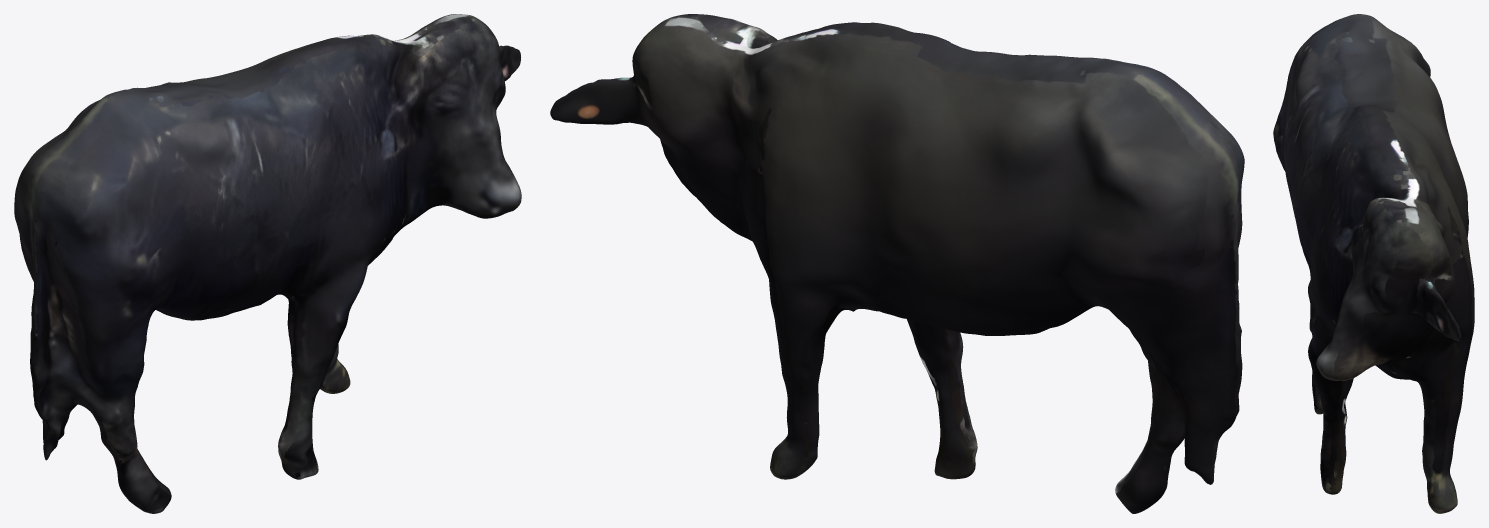
File: joven.glb
3 views of the same model, side by side, from view 1: azimuth 30°, elevation 25°; view 2: azimuth 150°, elevation 25°; view 3: azimuth 270°, elevation 25° (orthographic). The views are drawn at different scales.
Visible parts, largest first — view 1: mesh; view 2: mesh; view 3: mesh.
Part boxes in pixels (box(x1,y1,x2,y2)): mesh: box(14, 14, 521, 513); mesh: box(550, 14, 1244, 513); mesh: box(1273, 14, 1474, 513).
Size of the model in its own units: 1.83 by 1.31 by 0.608.
Materials: 1 (1 with a texture image).
